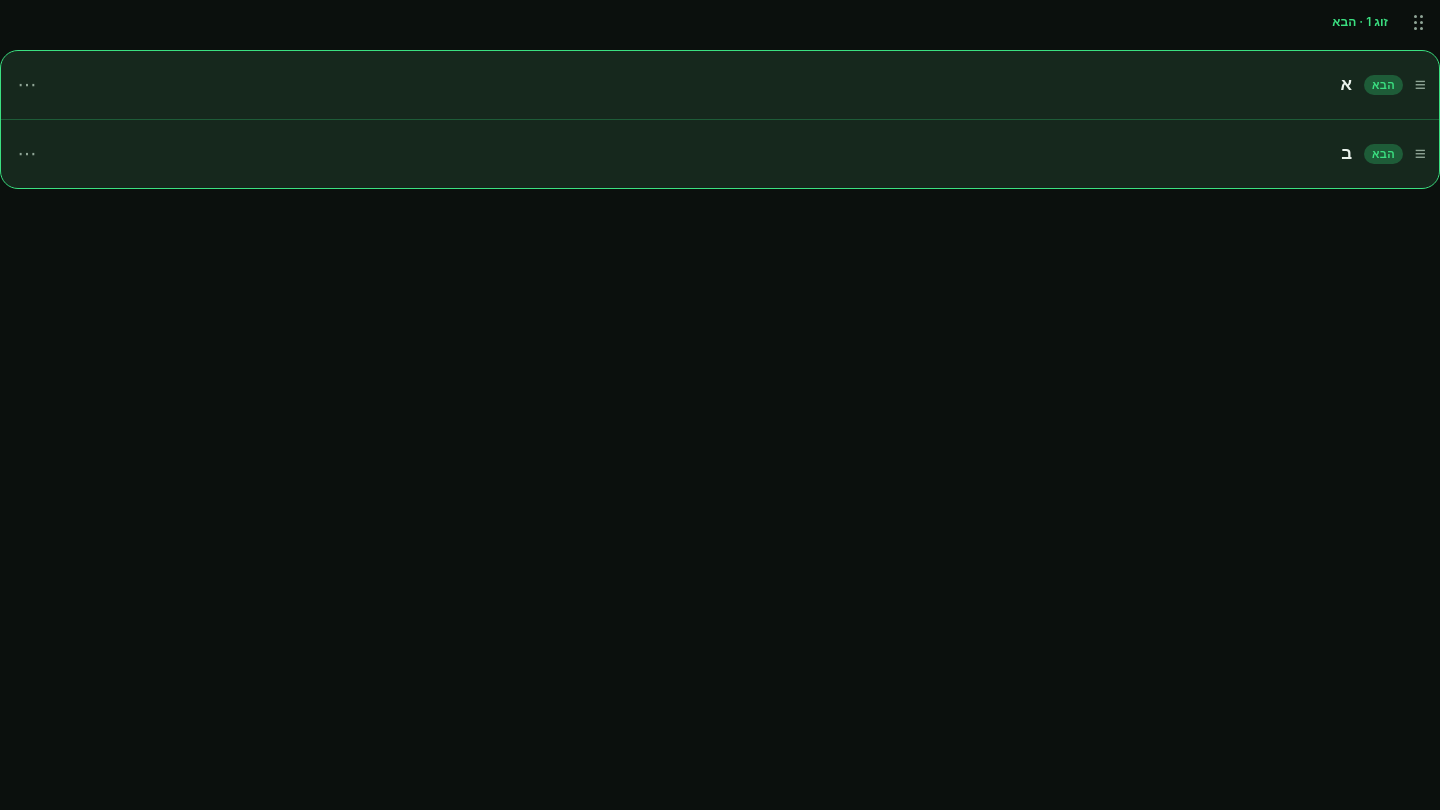
QueueList › opens QueueActionsSheet for the row whose ⋯ was tapped
Click the 2nd button "⋯": {"x": 27, "y": 154} left=5, top=132, right=49, bottom=176
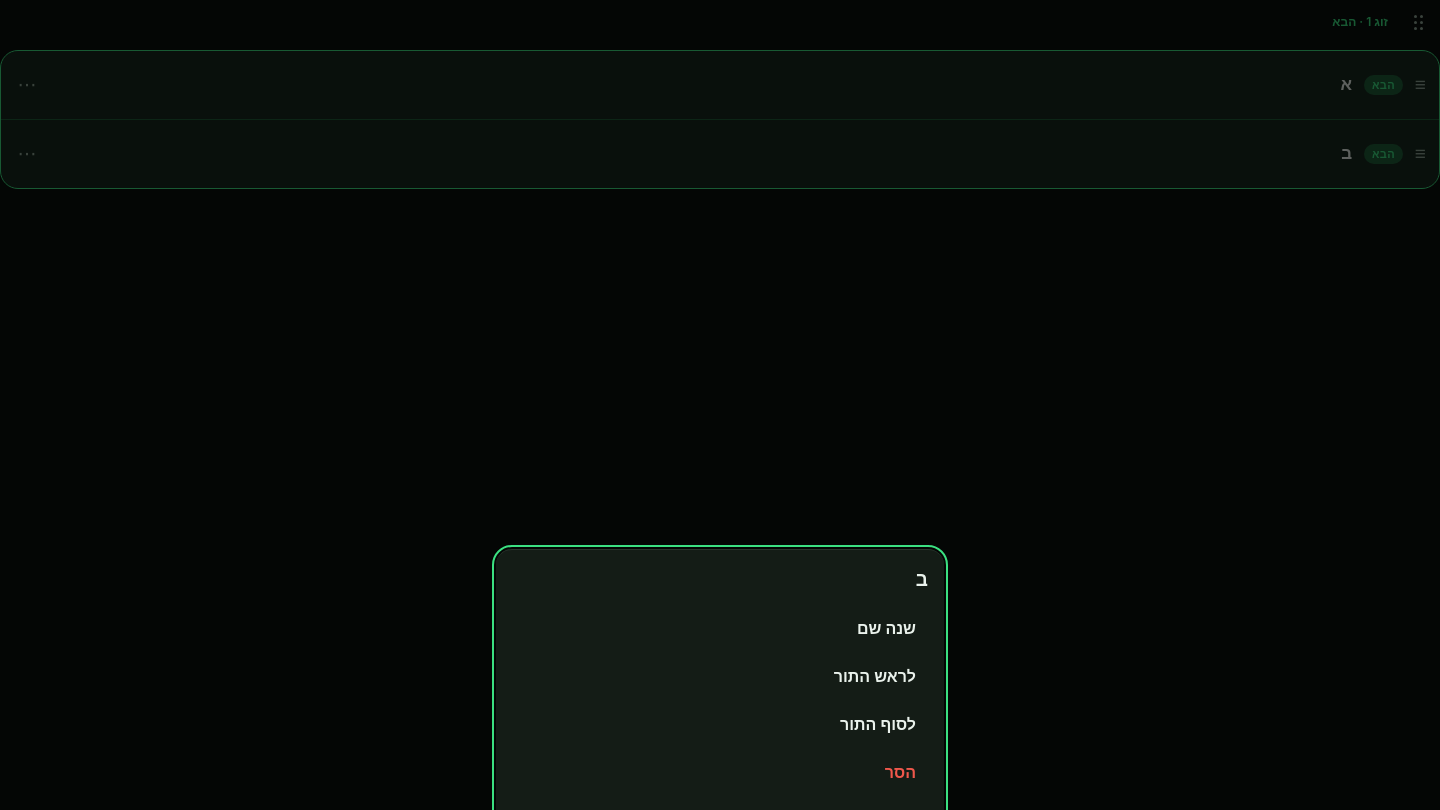
Now the heading "ב" is shown, box left=916, top=568, right=928, bottom=590
